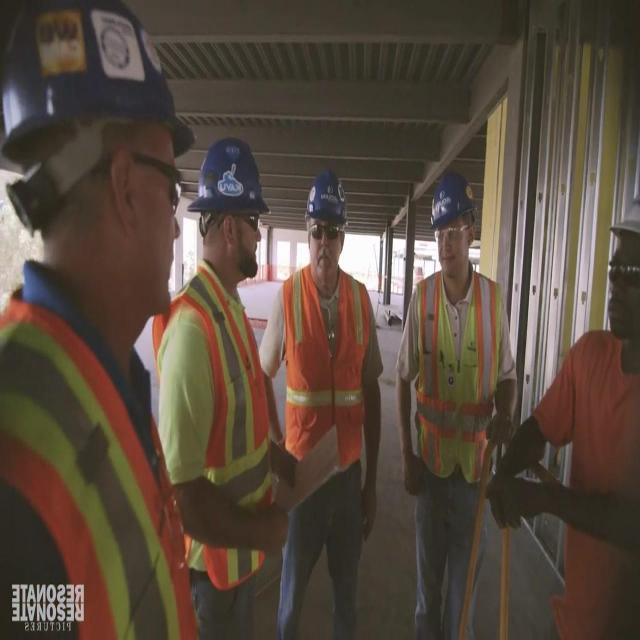Reflective-Jacket: (0, 285, 196, 639), (151, 267, 281, 598), (396, 264, 516, 505), (272, 262, 384, 508)
Safety-Helmet: (0, 2, 194, 218), (184, 126, 276, 240), (296, 159, 358, 244), (422, 162, 484, 242)
